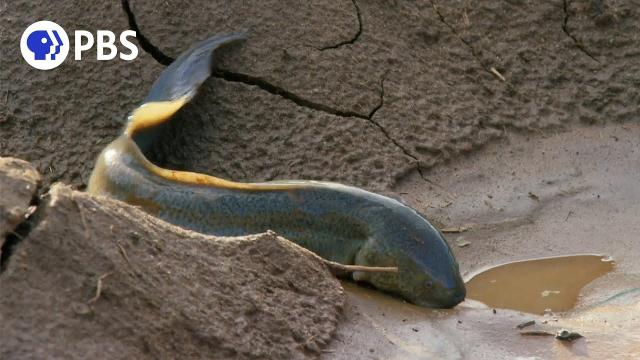Sirip Ekor: (124, 19, 264, 126)
